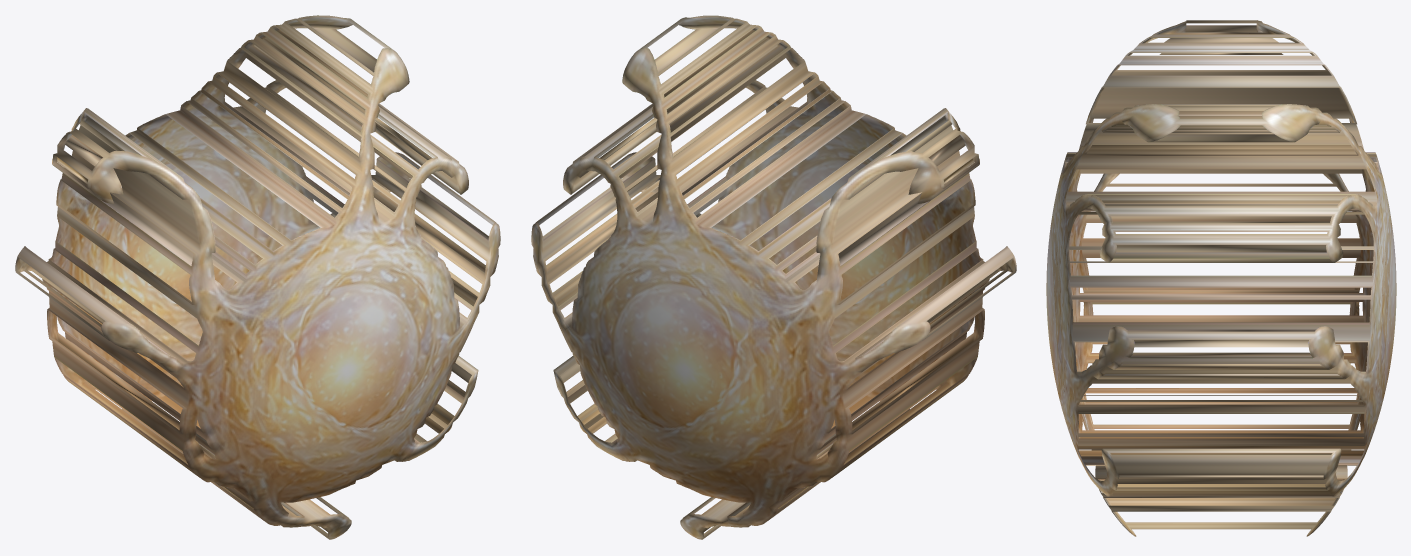
3 renders of one model, left to right at view 1: azimuth 30°, elevation 25°; view 2: azimuth 150°, elevation 25°; view 3: azimuth 270°, elevation 25°, orthographic.
Visible parts, largest first — view 1: cells:8; view 2: cells:8; view 3: cells:8.
Part boxes in pixels (x1=…): cells:8: x1=15, y1=15, x2=500, y2=539; cells:8: x1=531, y1=15, x2=1016, y2=539; cells:8: x1=1046, y1=20, x2=1396, y2=536.
Size of the model in its own units: 0.8776 by 0.9615 by 0.66.
1 material, 1 textured.
